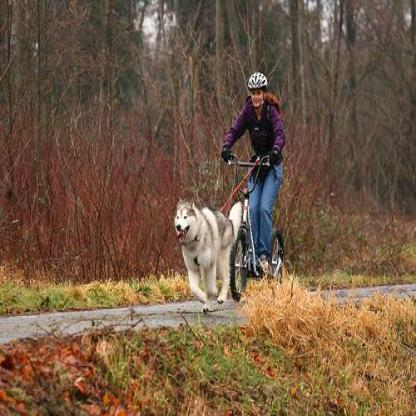malamute: (170, 195, 247, 308)
